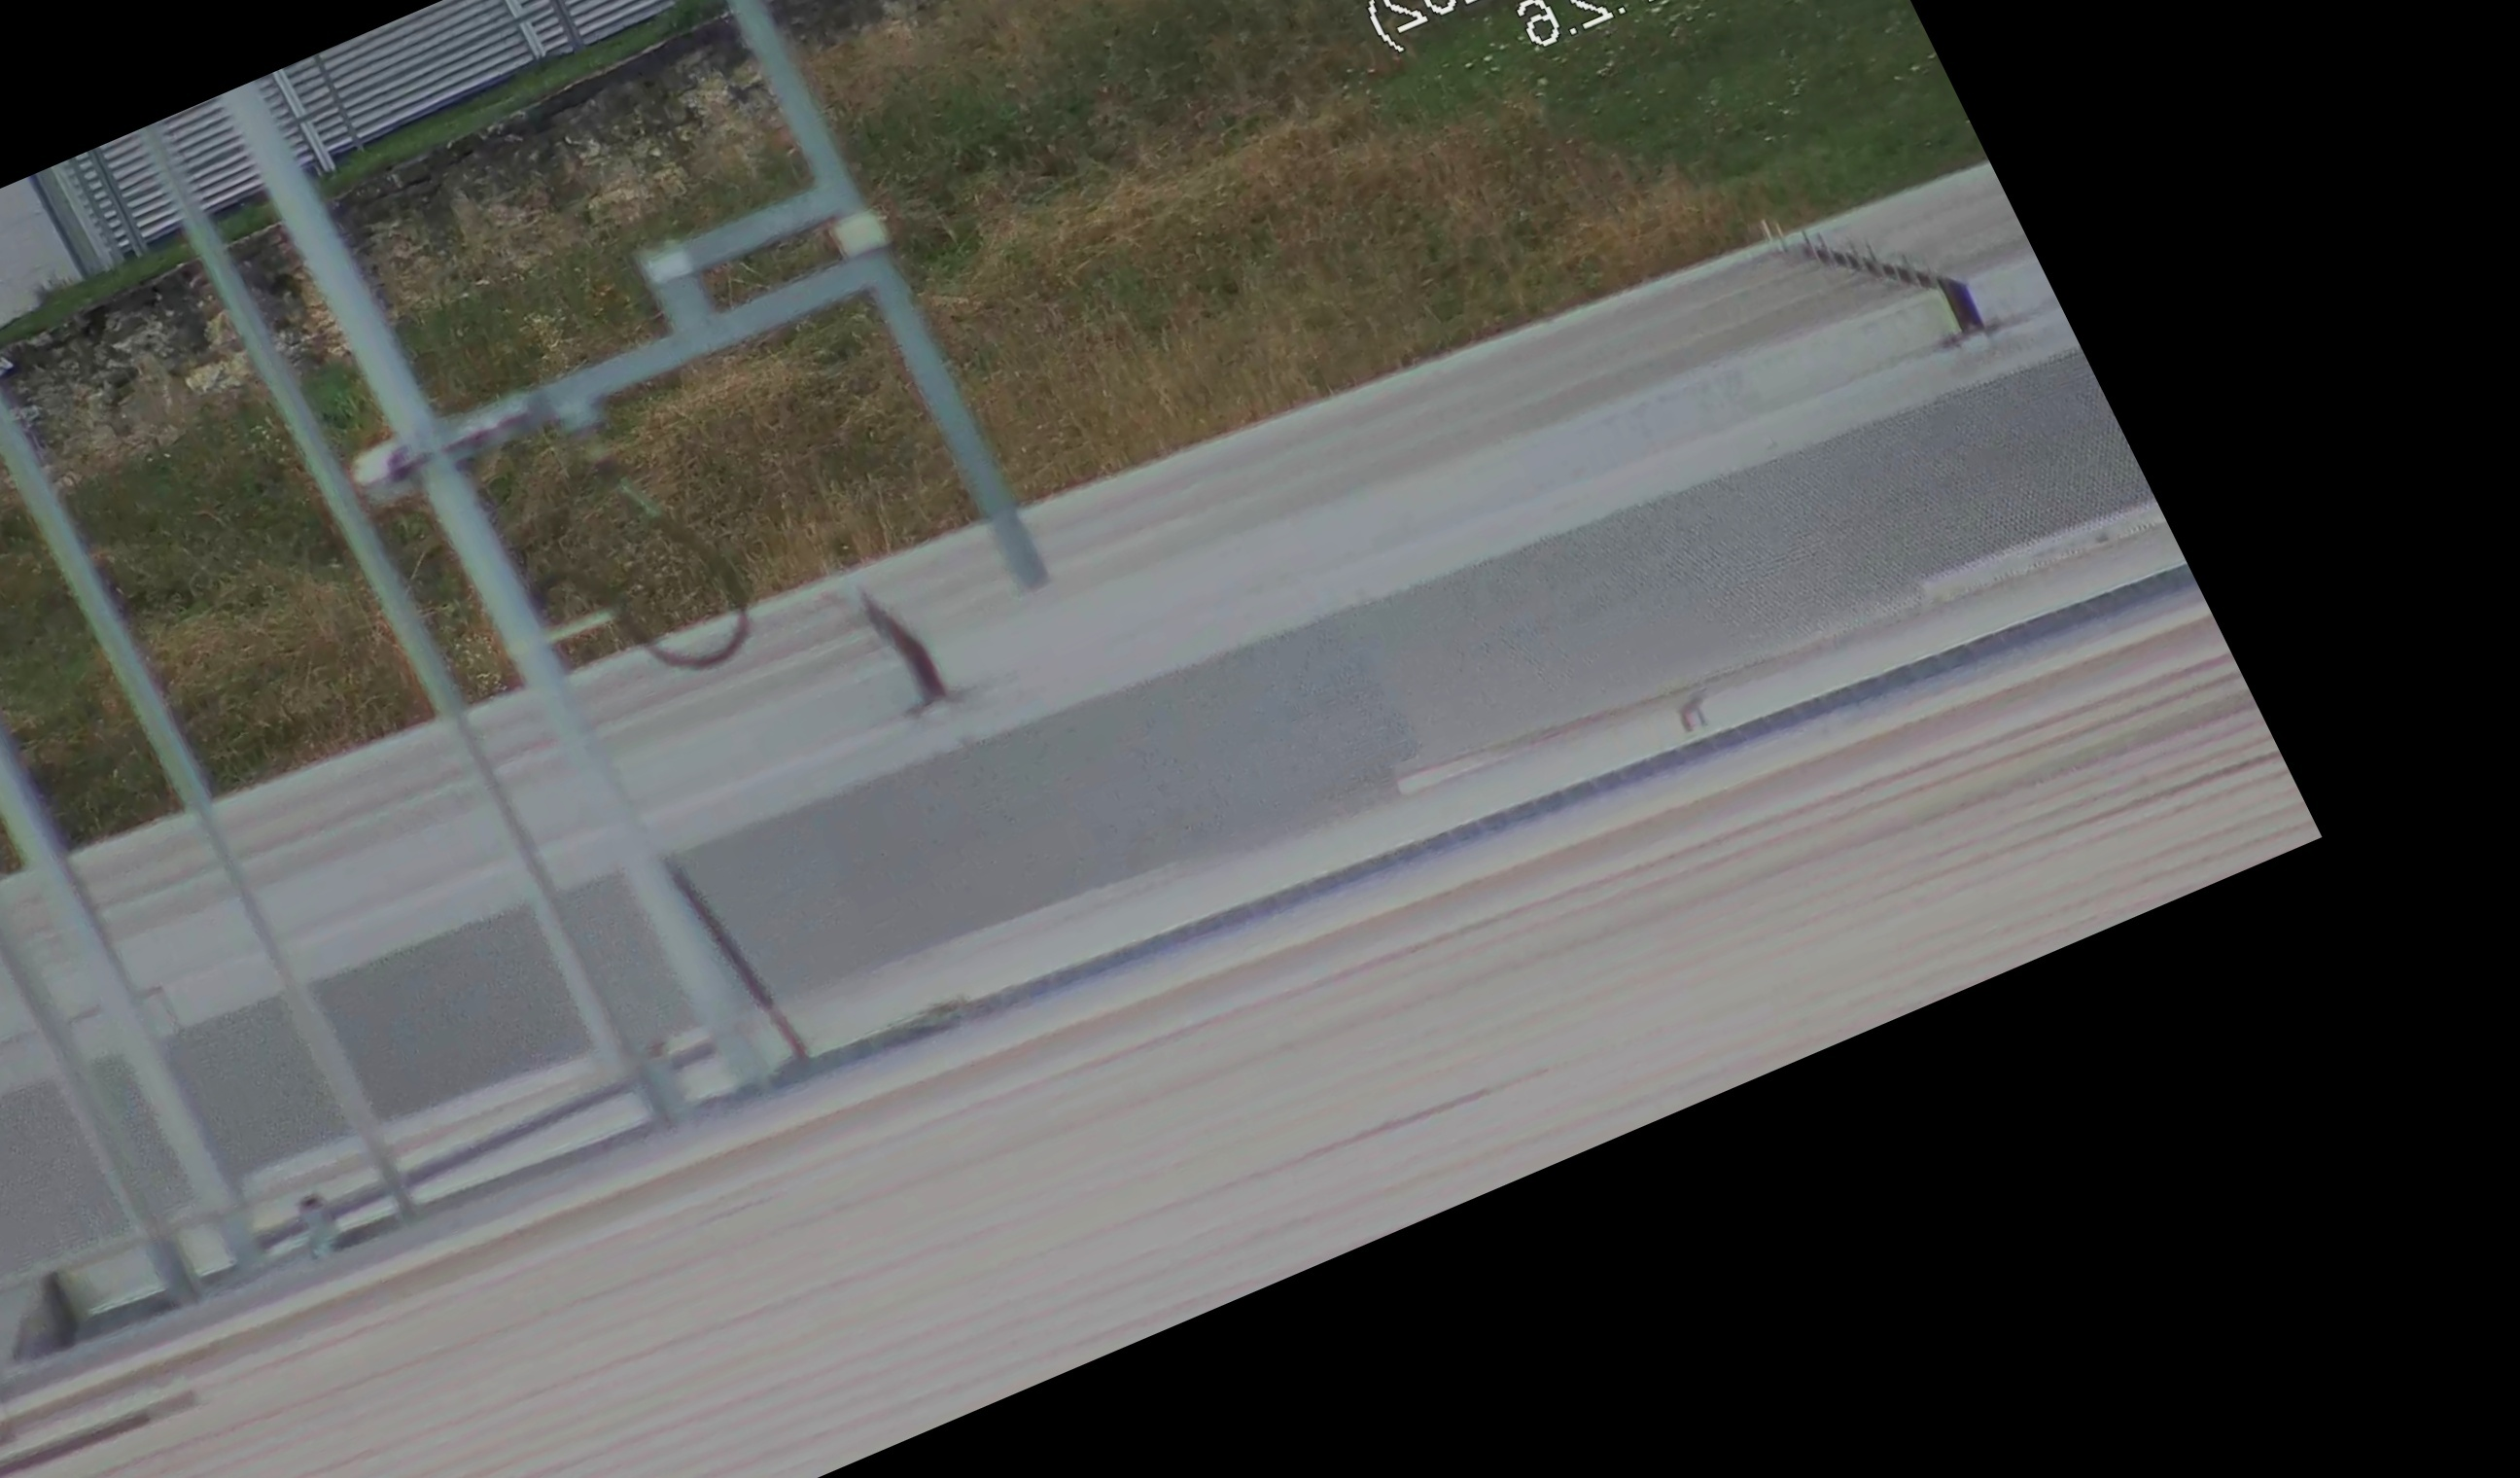Other: (827, 551, 971, 725)
